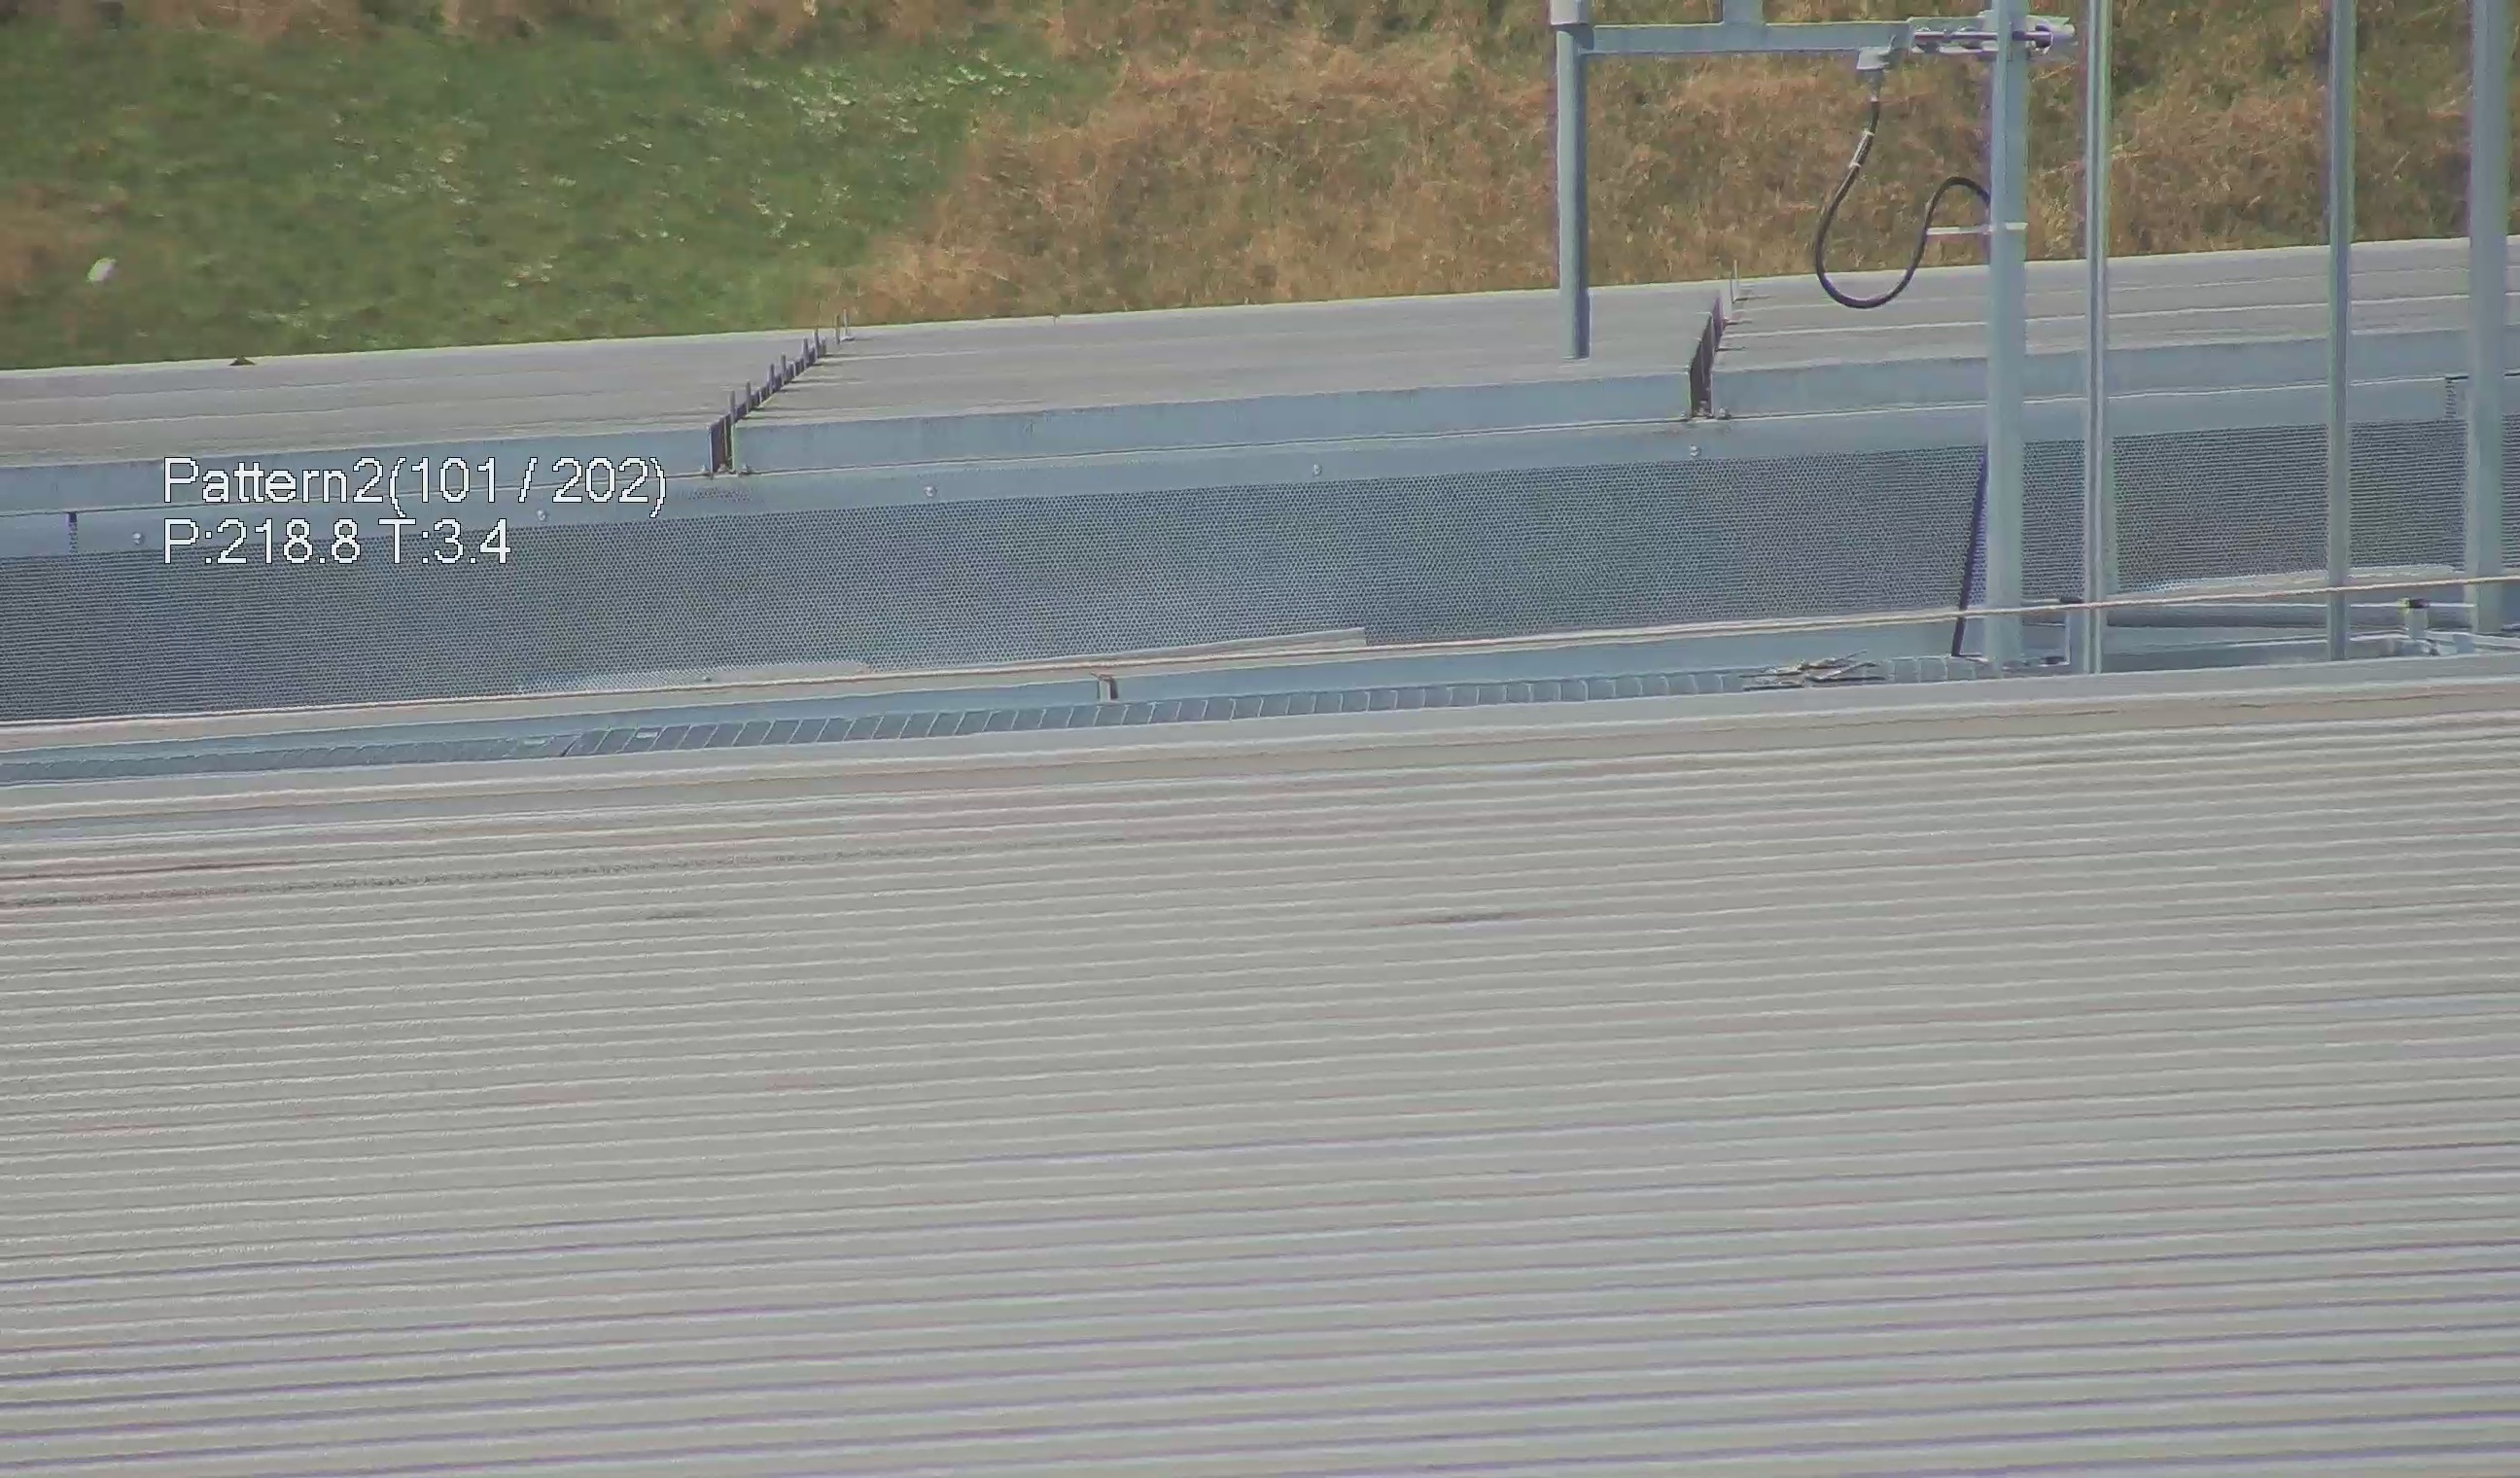Other: (1679, 280, 1755, 419)
